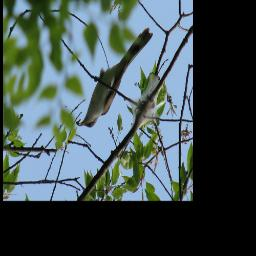Cuckoo: (77, 30, 153, 130)
